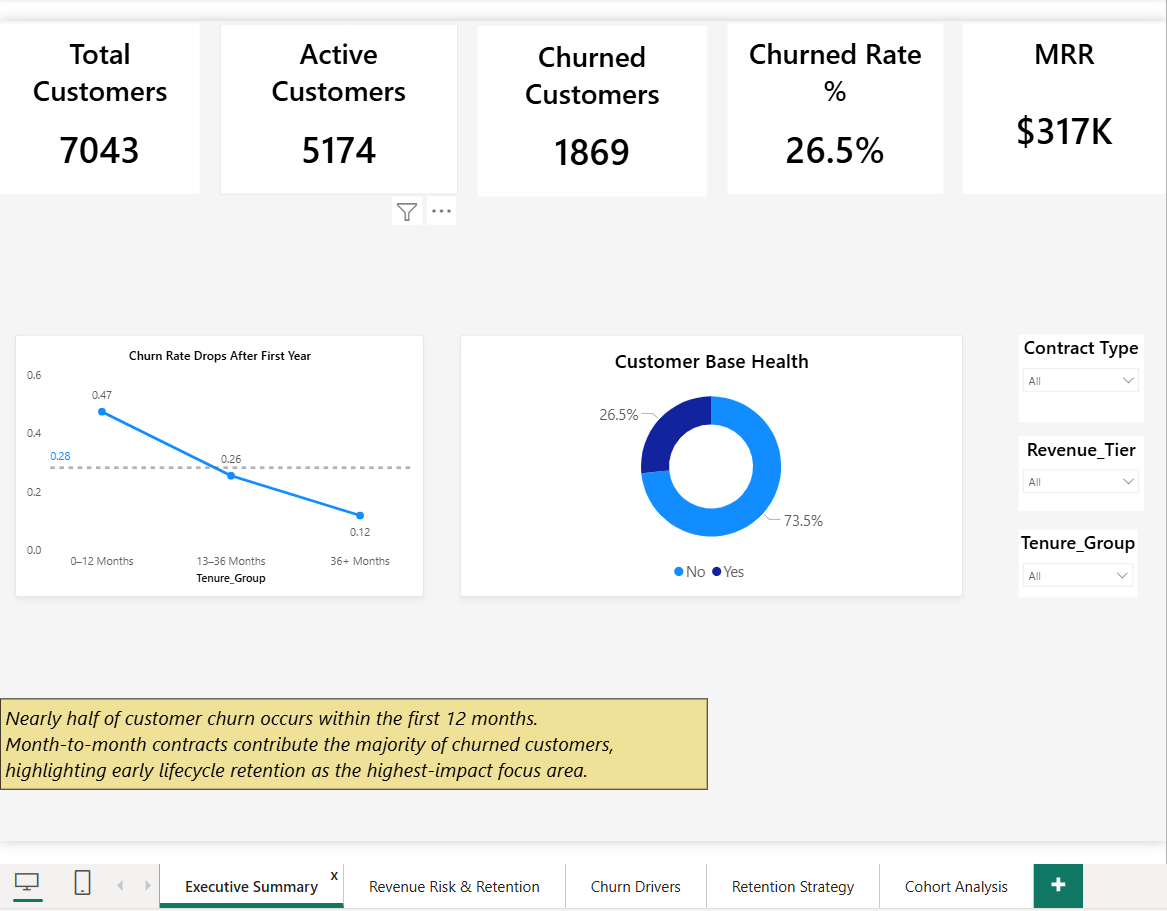

This screenshot's page, from the dashboard's own definition file:
{"tool":"powerbi","page":{"name":"Executive Summary","canvas":[1280,900],"ordinal":0},"visuals":[{"type":"card","title":"Total Customers","fields":{"Values":["customers.Total Customers"]},"box":[0,3.4,219.6,187.2],"z":0},{"type":"card","title":"Active Customers","fields":{"Values":["customers.Active Customers"]},"box":[241.7,3.4,260.4,187.2],"z":1000},{"type":"card","title":"Churned Customers","fields":{"Values":["customers.Churned Customers"]},"box":[524.3,5.1,251.9,187.2],"z":2000},{"type":"card","title":"Churned Rate %","fields":{"Values":["customers.Churn Rate %"]},"box":[798.3,3.4,236.6,187.2],"z":3000},{"type":"card","title":"MRR","fields":{"Values":["customers.MRR"]},"box":[1057,3.4,223,187.2],"z":4000},{"type":"lineChart","title":"Churn Rate Drops After First Year","fields":{"Category":["customers.Tenure_Group"],"Y":["customers.Churn Rate %"]},"box":[16.5,344.4,448.7,288.2],"z":5000},{"type":"donutChart","title":"Customer Base Health","fields":{"Category":["customers.Churn"],"Y":["customers.Total Customers"]},"box":[505,344.4,551.6,288.2],"z":6000},{"type":"slicer","title":"Contract Type","fields":{"Values":["customers.Contract_Simple"]},"box":[1118.4,344.4,137.2,96.1],"z":7000},{"type":"slicer","title":"Revenue_Tier","fields":{"Values":["customers.Revenue_Tier"]},"box":[1118.4,455.6,137.2,82.3],"z":8000},{"type":"slicer","title":"Tenure_Group","fields":{"Values":["customers.Tenure_Group"]},"box":[1118.4,558.5,130.4,74.1],"z":9000},{"type":"textbox","box":[0,743.7,776.7,100.2],"z":10000}]}

Visuals, with their boxes on the page's 1280x900 design canvas (x1, y1, x2, y2). These are canvas units, not pixel positions in the 1167x911 screenshot, which may show the page scaled, cropped or inside an application window:
"Total Customers" card: crop(0, 3, 220, 191)
"Active Customers" card: crop(242, 3, 502, 191)
"Churned Customers" card: crop(524, 5, 776, 192)
"Churned Rate %" card: crop(798, 3, 1035, 191)
"MRR" card: crop(1057, 3, 1280, 191)
"Churn Rate Drops After First Year" lineChart: crop(16, 344, 465, 633)
"Customer Base Health" donutChart: crop(505, 344, 1057, 633)
"Contract Type" slicer: crop(1118, 344, 1256, 440)
"Revenue_Tier" slicer: crop(1118, 456, 1256, 538)
"Tenure_Group" slicer: crop(1118, 558, 1249, 633)
textbox: crop(0, 744, 777, 844)
